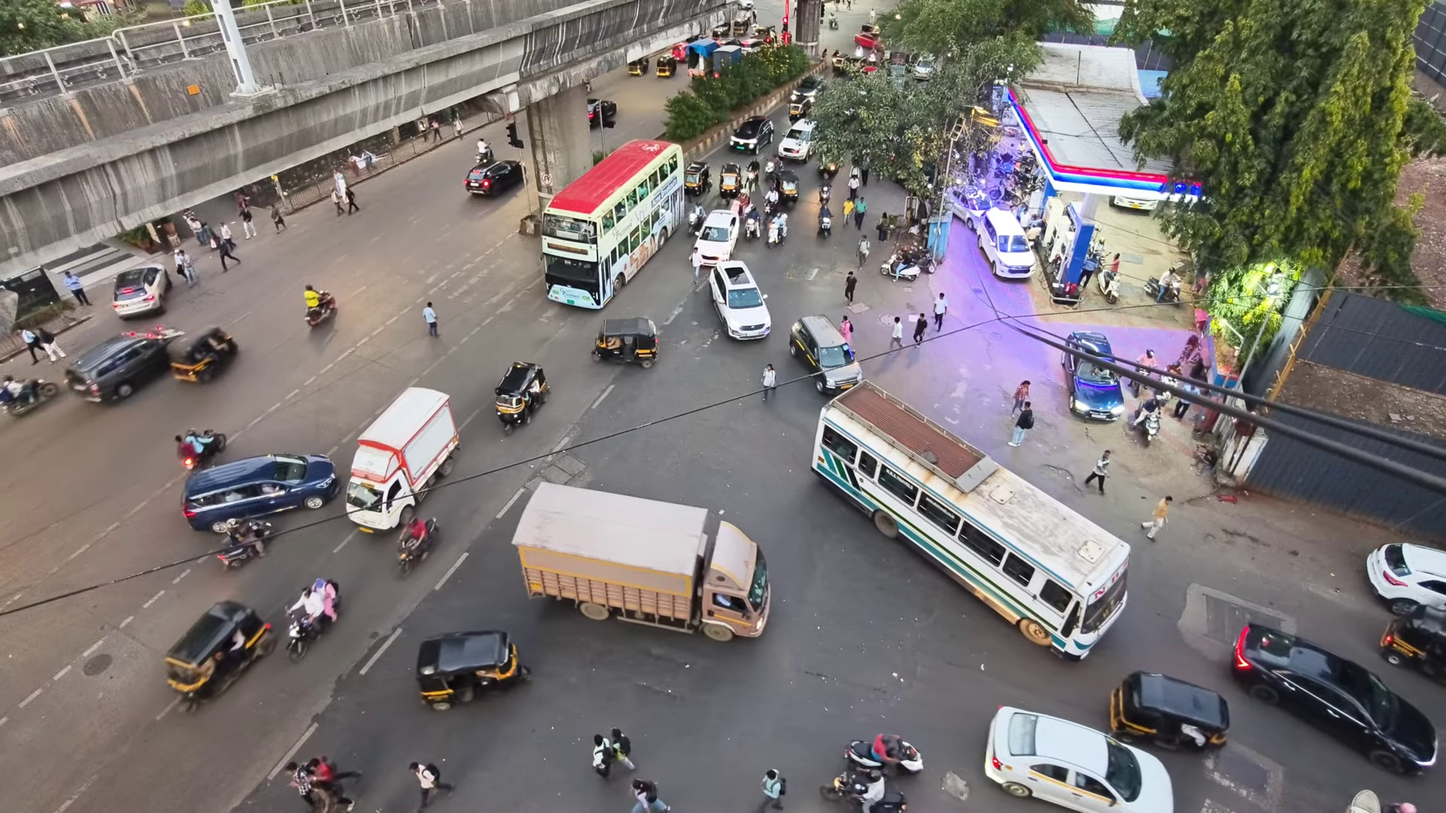driving: (814, 380, 1129, 659), (513, 482, 770, 640), (1231, 623, 1438, 772), (541, 140, 684, 308), (984, 706, 1172, 812), (346, 387, 459, 532), (182, 454, 339, 533), (165, 601, 275, 711), (1109, 671, 1229, 750), (416, 630, 529, 710), (65, 327, 183, 401), (789, 315, 863, 394), (1366, 543, 1445, 615), (1061, 330, 1124, 420), (1380, 604, 1445, 684), (709, 260, 770, 339), (494, 362, 549, 429), (171, 327, 238, 382), (592, 318, 657, 368), (113, 264, 172, 318), (217, 519, 271, 568), (694, 209, 739, 266), (286, 609, 334, 662), (397, 518, 440, 577), (0, 378, 58, 416), (464, 160, 523, 196), (175, 429, 227, 469), (730, 116, 773, 154), (779, 118, 814, 161), (587, 99, 617, 126)
walking: (304, 757, 360, 812), (409, 763, 453, 809), (284, 761, 316, 810), (1141, 495, 1172, 539), (631, 779, 670, 812), (758, 769, 786, 812), (1084, 449, 1110, 493), (1008, 401, 1033, 446), (35, 327, 66, 361), (611, 727, 635, 770), (592, 734, 615, 778), (63, 272, 91, 306), (178, 250, 198, 286), (20, 328, 40, 364), (218, 239, 239, 272), (1011, 381, 1030, 415), (239, 207, 256, 239), (423, 302, 438, 336), (762, 364, 776, 400), (270, 204, 287, 233), (934, 293, 947, 330), (857, 236, 871, 267), (889, 316, 902, 349), (914, 312, 927, 345), (854, 196, 866, 230), (690, 248, 701, 285), (876, 213, 889, 243), (220, 223, 235, 249), (1173, 398, 1191, 419), (840, 315, 853, 343), (331, 189, 344, 215), (859, 154, 869, 186), (346, 187, 358, 213), (847, 175, 860, 199), (430, 118, 442, 142), (842, 199, 854, 221), (452, 115, 462, 136), (861, 245, 866, 255)
